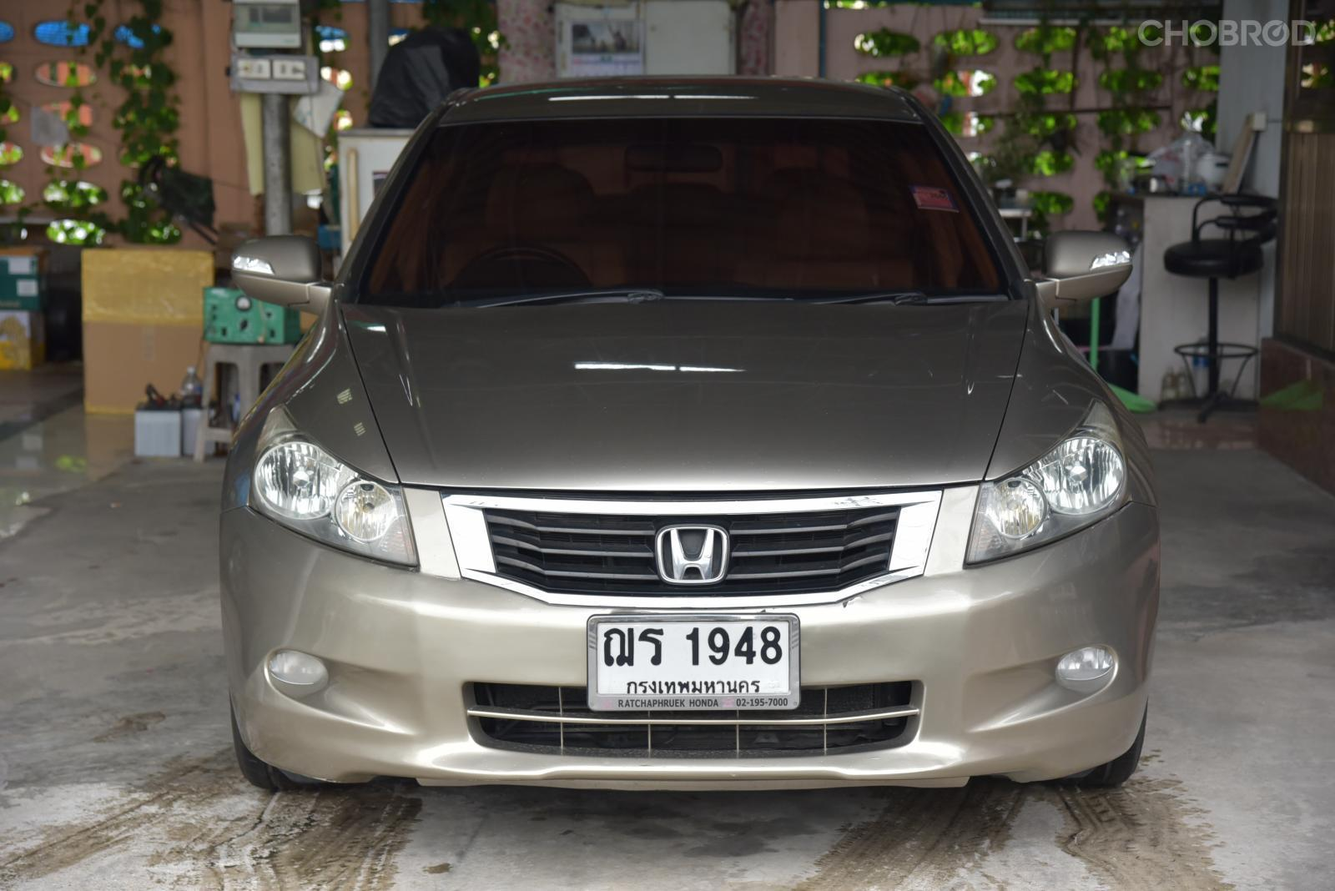license-plate: (585, 608, 805, 713)
